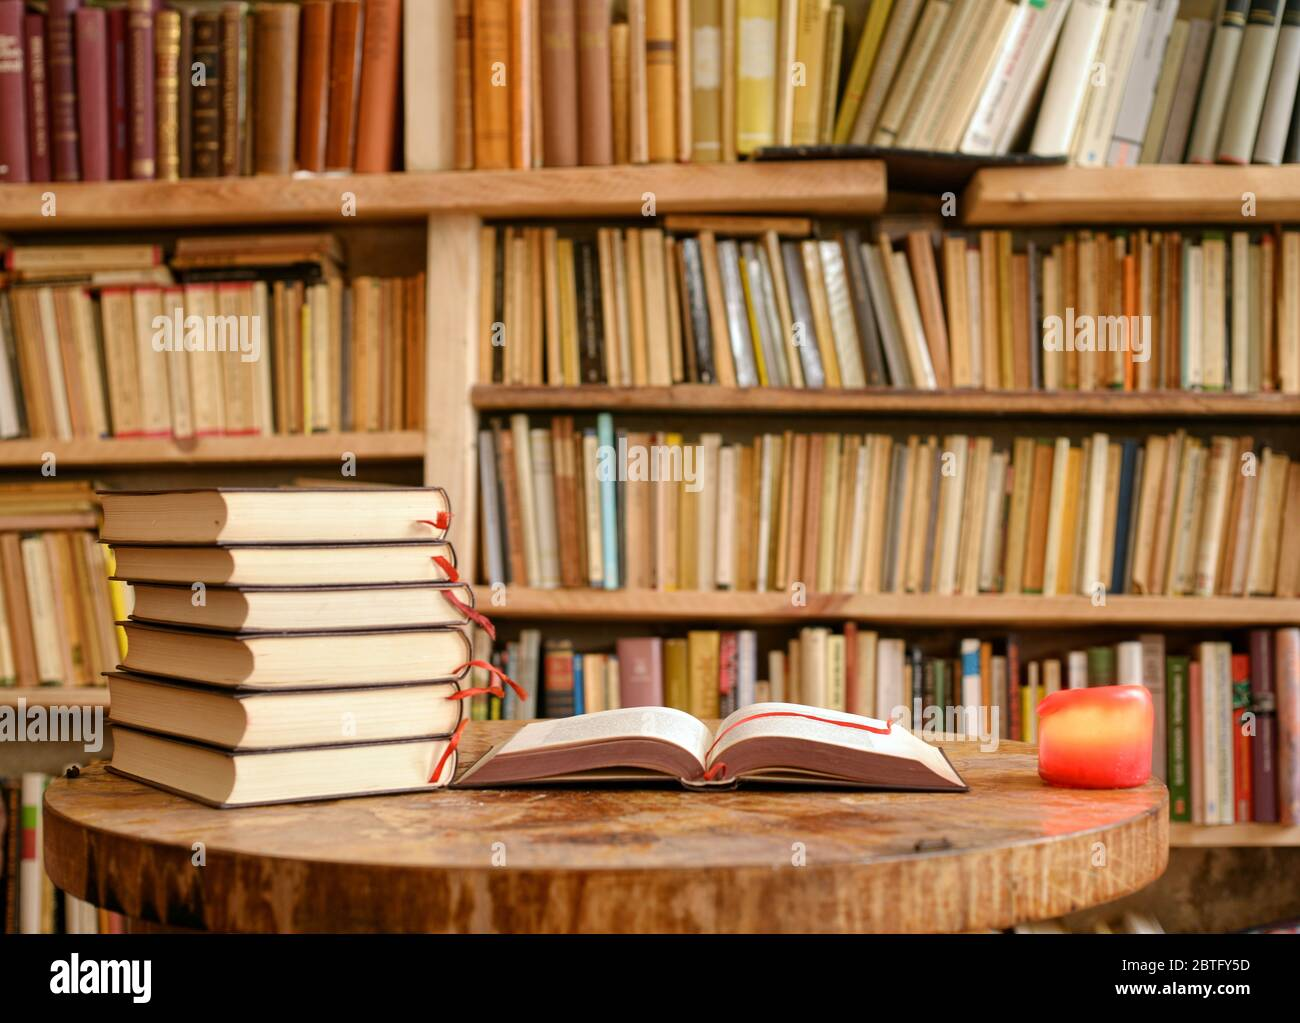book: (101, 484, 987, 809)
